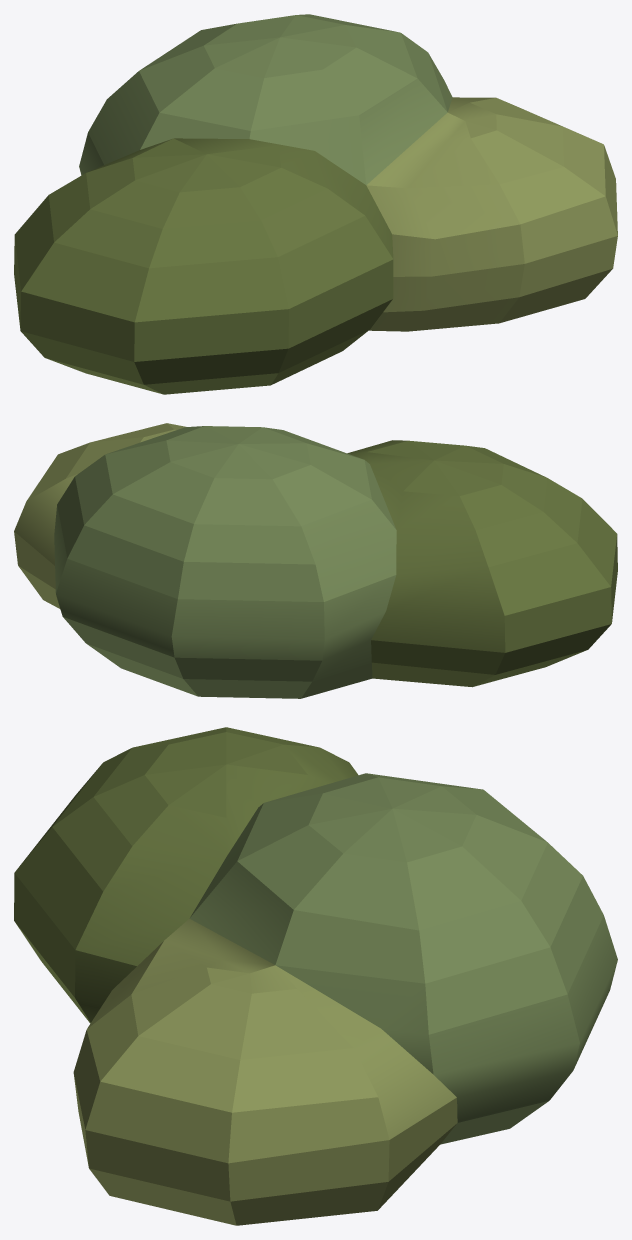
Rendered from shrub1.fbx.
The picture shows the model from 3 angles, top to bottom: view 1: azimuth 30°, elevation 25°; view 2: azimuth 150°, elevation 25°; view 3: azimuth 270°, elevation 25°; orthographic projection. The views are drawn at different scales.
Parts seen in each view (by area): view 1: shrub1; view 2: shrub1; view 3: shrub1.
Part boxes in pixels (bbox=[...]): shrub1: bbox=[14, 14, 617, 394]; shrub1: bbox=[14, 423, 617, 698]; shrub1: bbox=[14, 727, 617, 1225].
Size of the model in its own units: 26.47 by 9.45 by 18.89.
